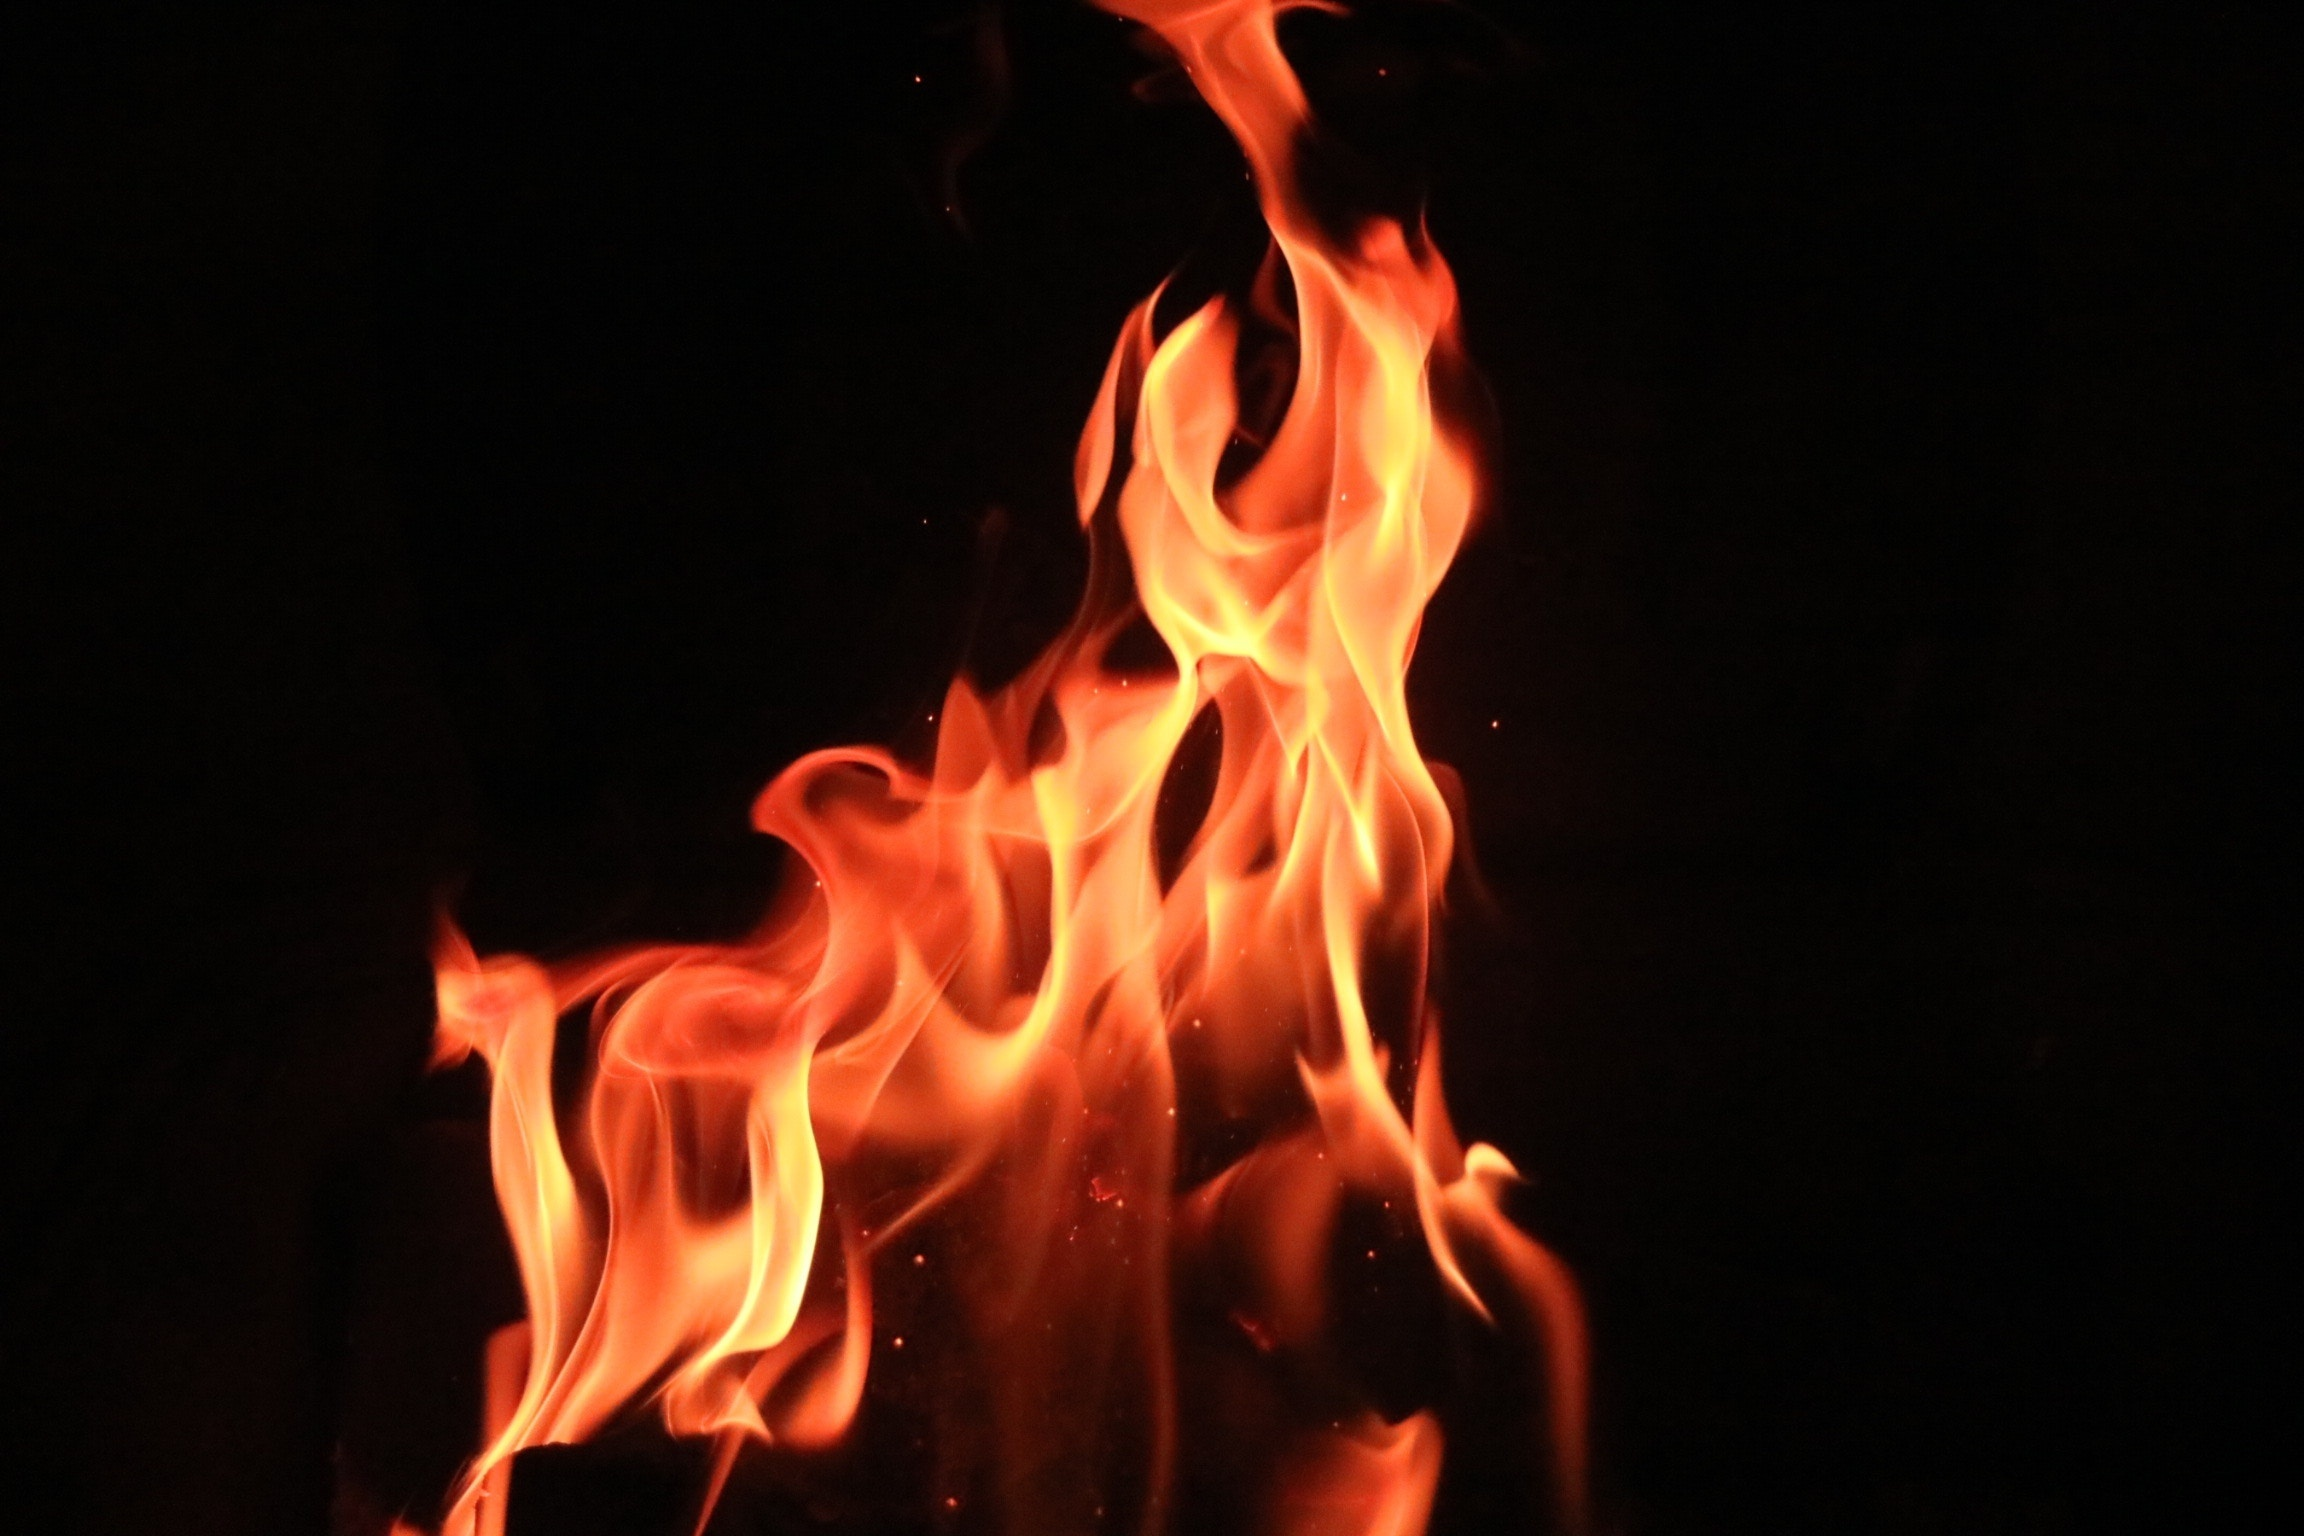fire: (393, 82, 1567, 1522)
